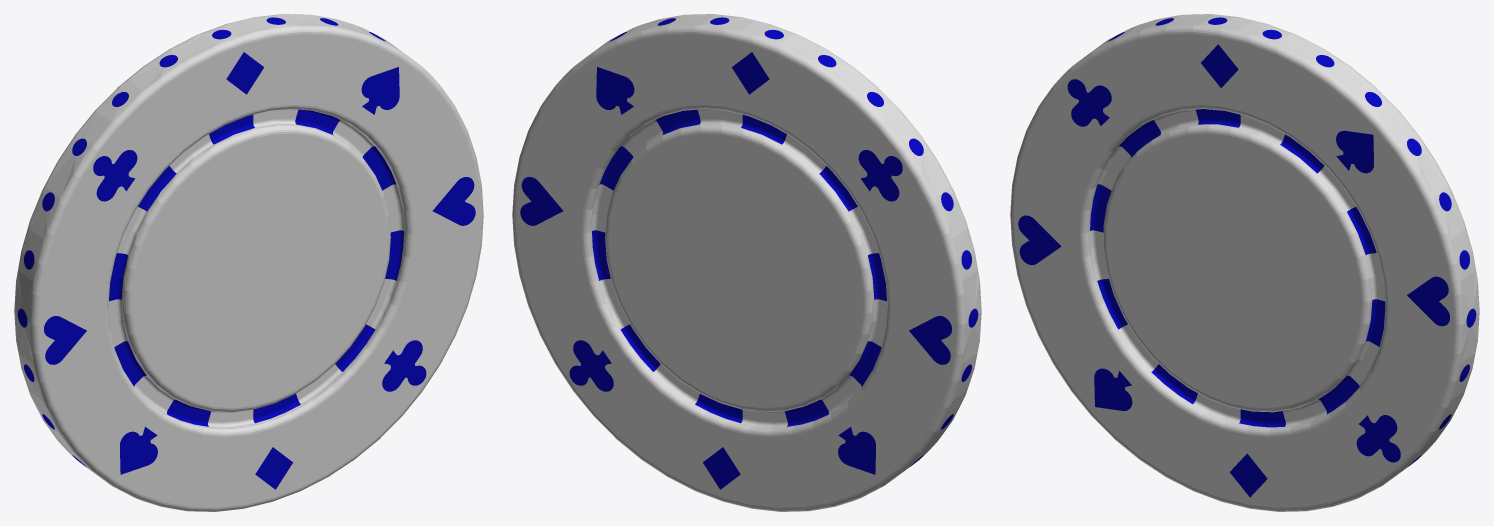
3 renders of one model, left to right at view 1: azimuth 30°, elevation 25°; view 2: azimuth 150°, elevation 25°; view 3: azimuth 330°, elevation 25°, orthographic.
Parts seen in each view (by area): view 1: Asset3DLoader.sceneRoot; view 2: Asset3DLoader.sceneRoot; view 3: Asset3DLoader.sceneRoot.
Boxes of the visible parts, box(x1,y1,x2,y2) form: Asset3DLoader.sceneRoot: box(14, 14, 483, 511); Asset3DLoader.sceneRoot: box(512, 14, 981, 511); Asset3DLoader.sceneRoot: box(1010, 14, 1479, 511).
Size of the model in its own units: 40 by 40 by 3.3.
